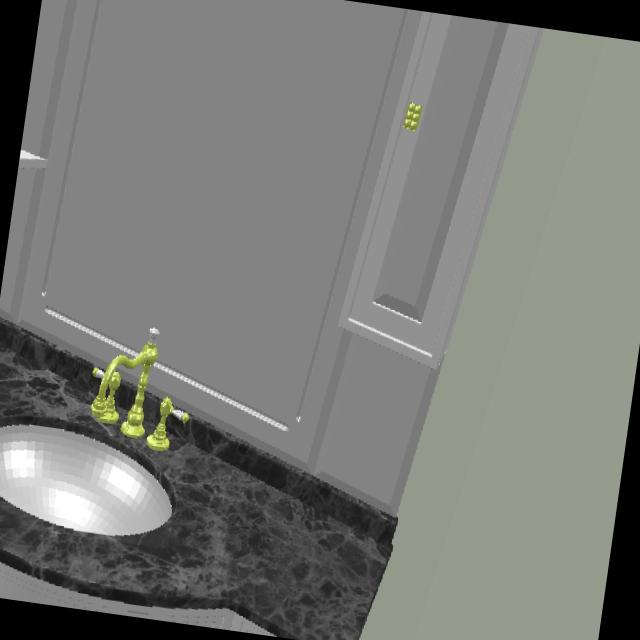washbasin: (0, 426, 172, 540)
